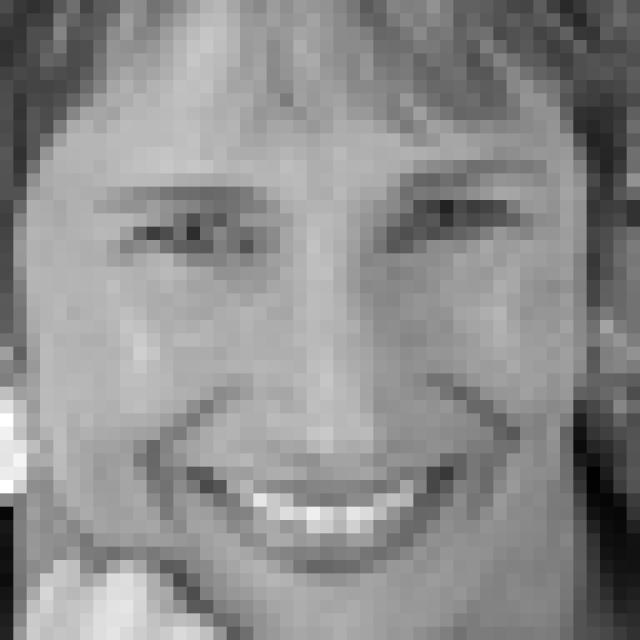happy: (88, 152, 556, 590)
